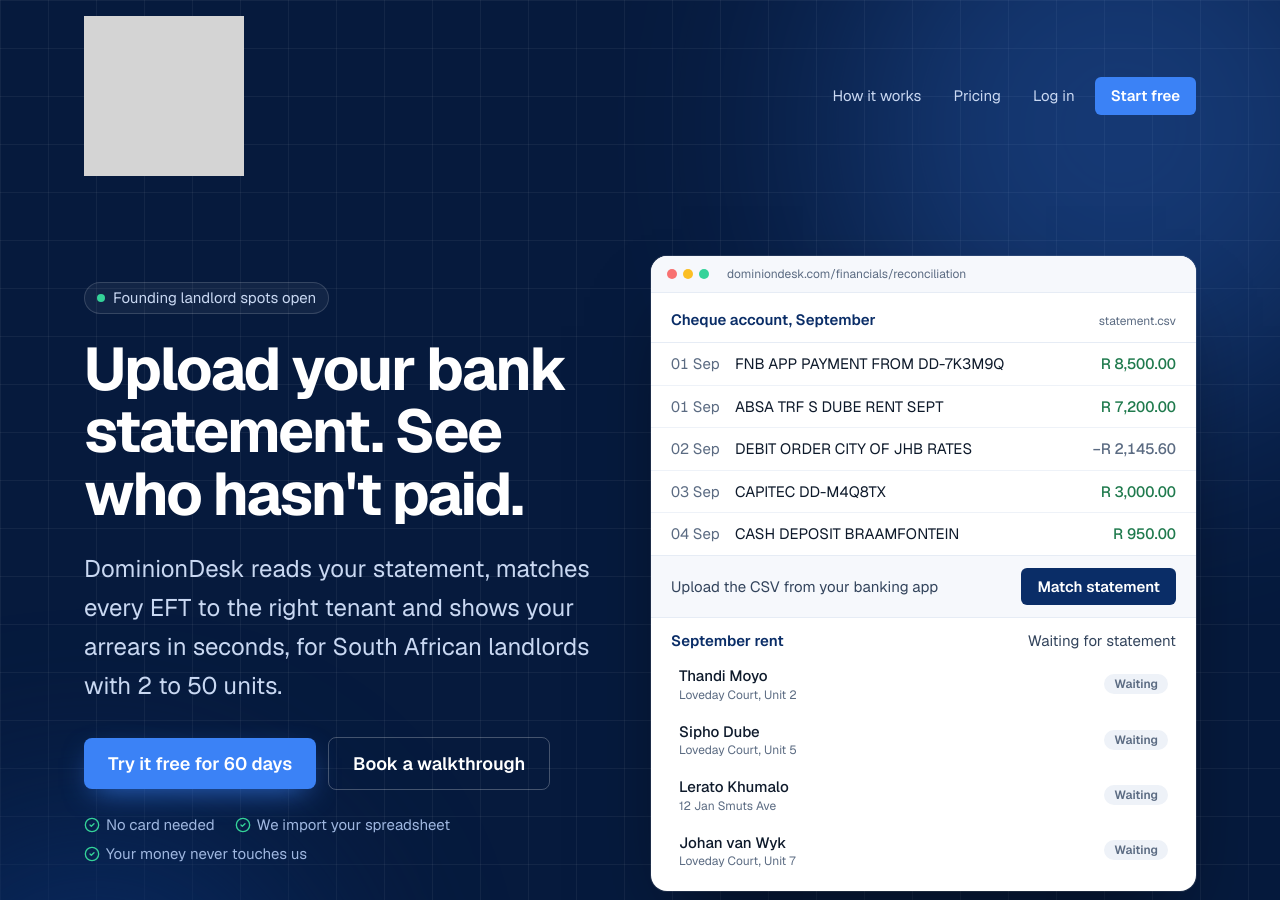
Scenario: LandingPageClient › resolves the statement demo into a rent roll when matched
Expected: the text "Waiting for statement" is shown, [1028,630,1176,651]
Click the button "Match statement".
click(1099, 586)  # box [1022,568,1176,605]
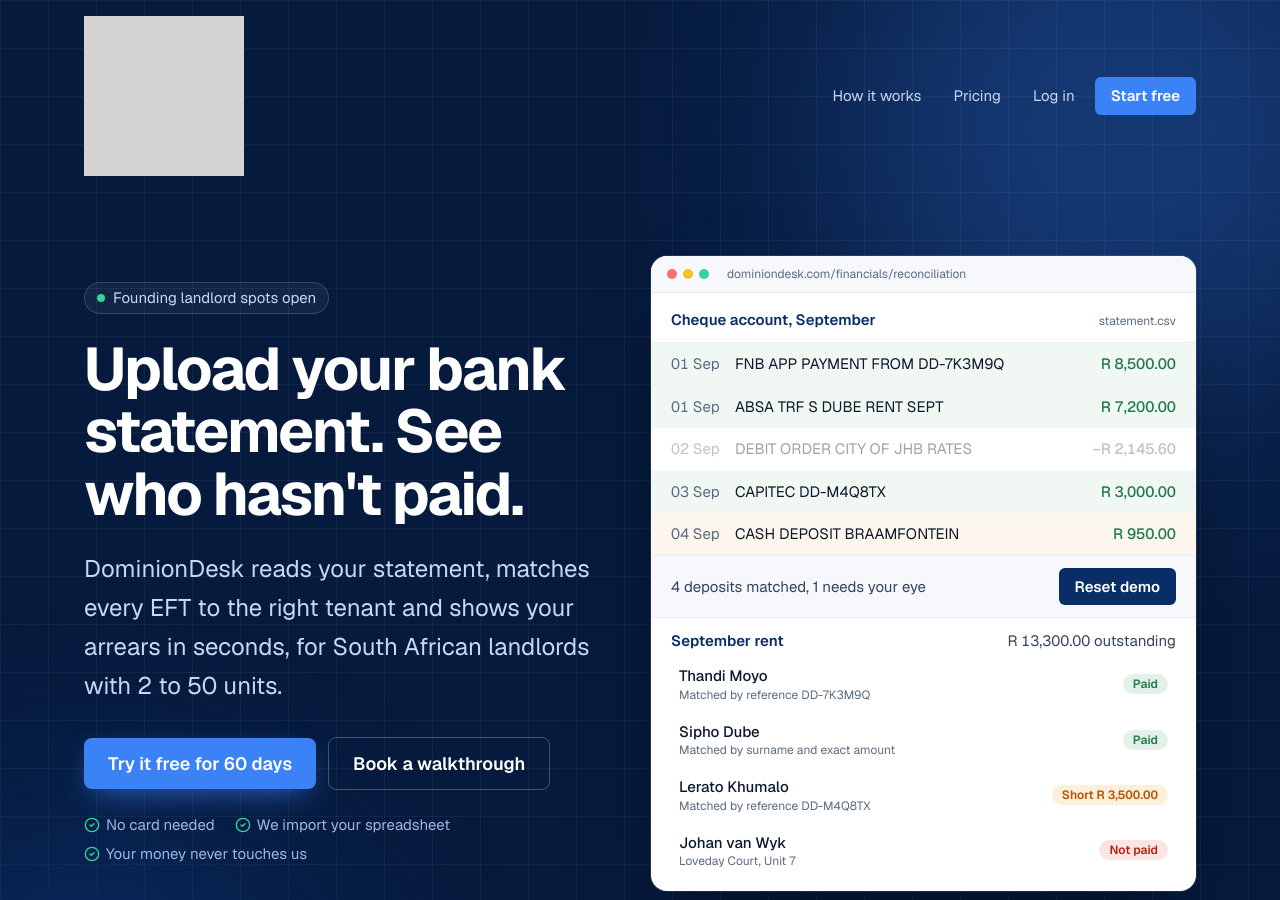
Result: the text "Not paid" is shown at [1099,840,1168,860]
Result: the text "R 13,300.00 outstanding" is shown at [1008,630,1176,651]
